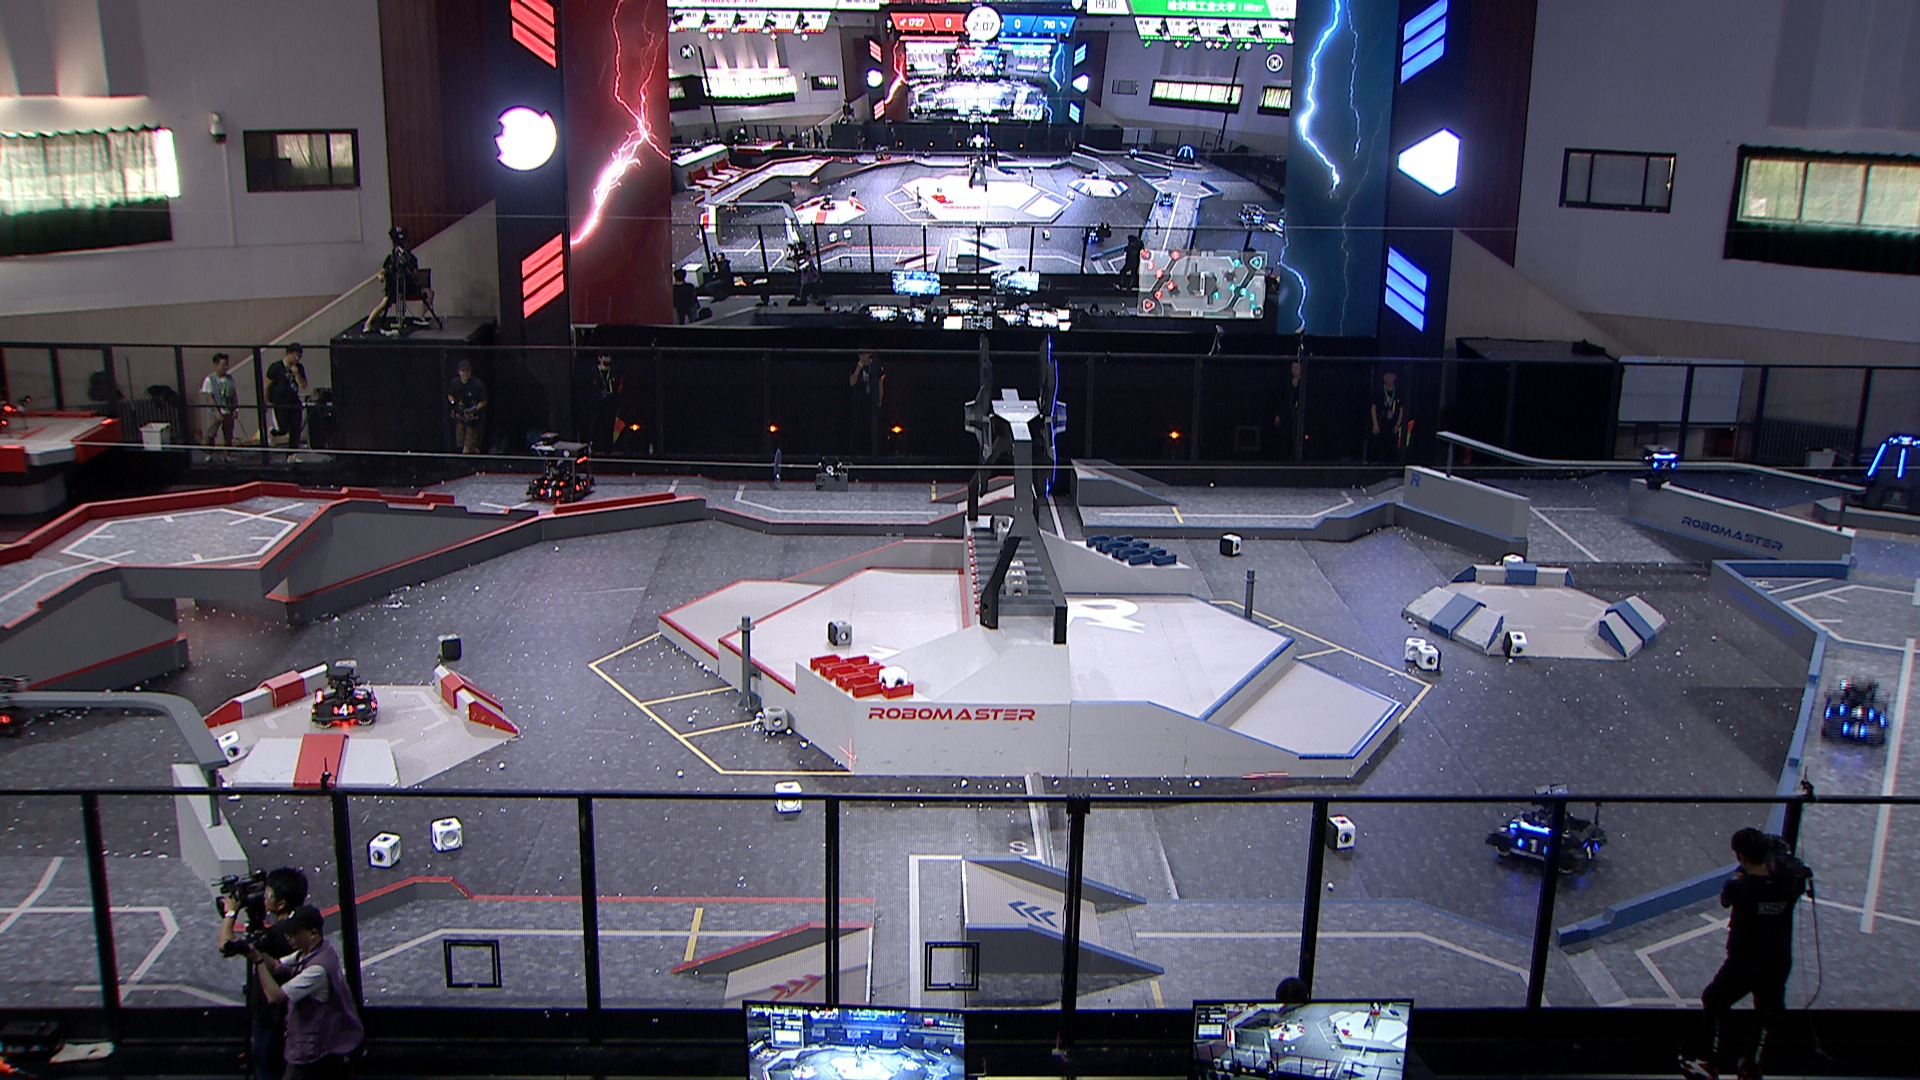armor: (1865, 442, 1888, 479), (1840, 703, 1875, 721), (1515, 837, 1549, 856), (1841, 723, 1869, 741), (1577, 844, 1602, 861), (1898, 446, 1908, 479), (1651, 458, 1676, 471), (537, 487, 562, 500), (1506, 815, 1528, 829), (332, 703, 356, 716), (1894, 436, 1920, 447), (572, 480, 589, 493), (353, 687, 371, 700), (543, 479, 564, 488)
base: (1845, 436, 1920, 520)
car: (1484, 785, 1605, 877), (526, 431, 599, 504), (1821, 679, 1892, 746), (309, 665, 378, 731)
ignore: (1240, 202, 1269, 229), (1087, 223, 1110, 245), (1172, 144, 1196, 164), (874, 144, 893, 164), (820, 194, 837, 211), (1158, 193, 1174, 207), (727, 199, 740, 215), (1127, 148, 1138, 160)
watcher: (1640, 444, 1679, 491)
